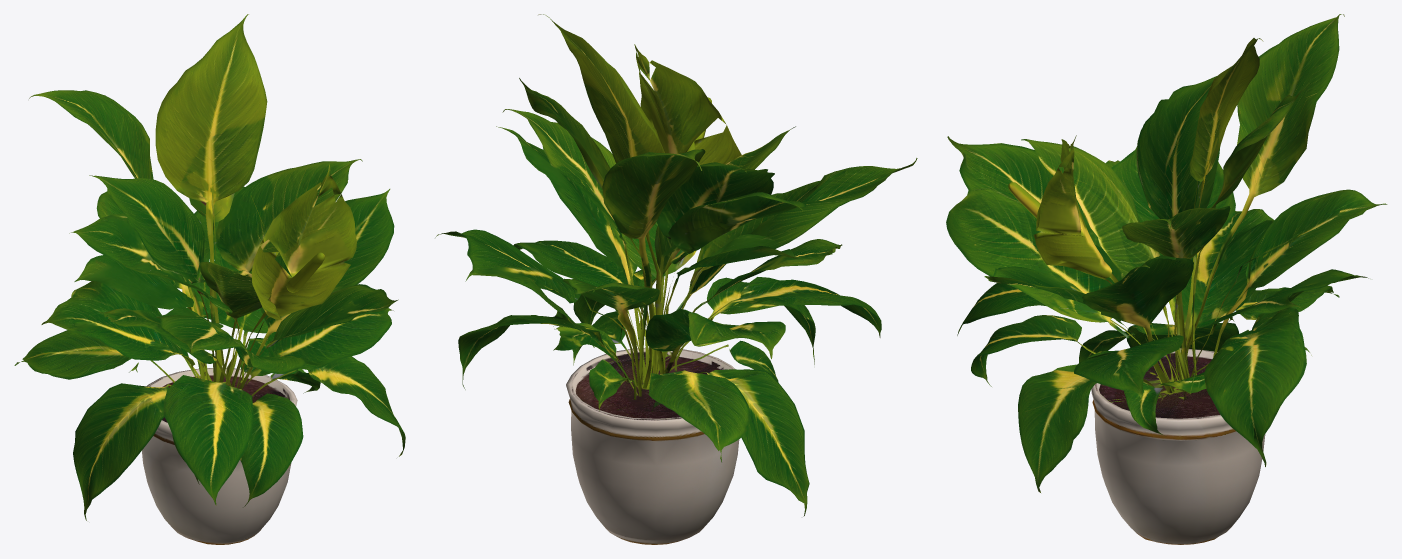
The model's file is plant-source.glb.
3 renders of one model, left to right at view 1: azimuth 30°, elevation 25°; view 2: azimuth 150°, elevation 25°; view 3: azimuth 270°, elevation 25°, orthographic. The views are drawn at different scales.
Bounding box in the file's own units: 0.6392 × 0.9517 × 0.7295.
1 material, 1 textured.
